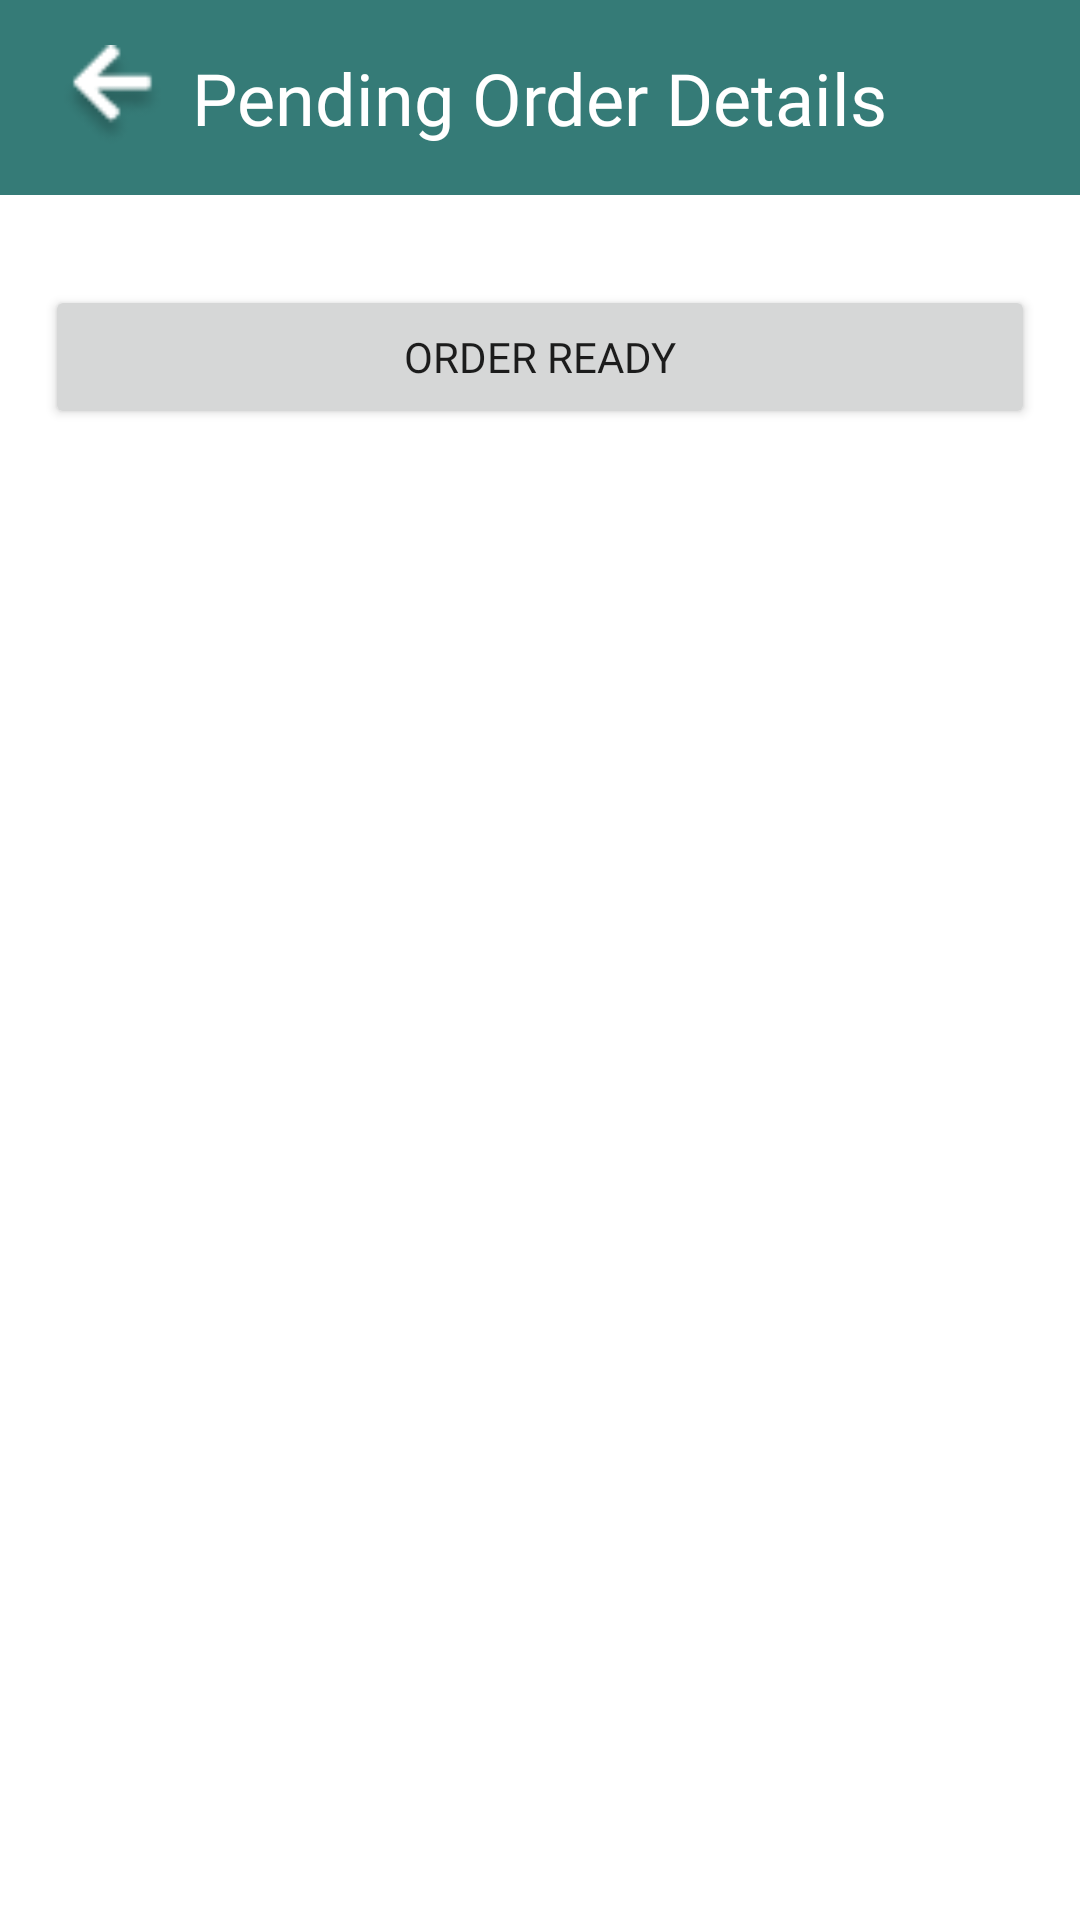

Where icons sit on this 1080×1920 app screen, as (x1=x1, y1=y1, x2=x2, y2=y2):
backarrow: (x1=73, y1=45, x2=152, y2=122)
